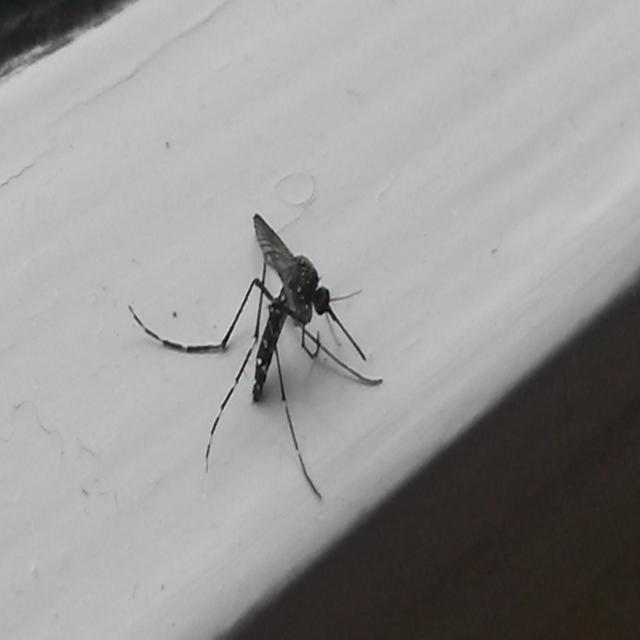albopictus: (140, 190, 364, 508)
